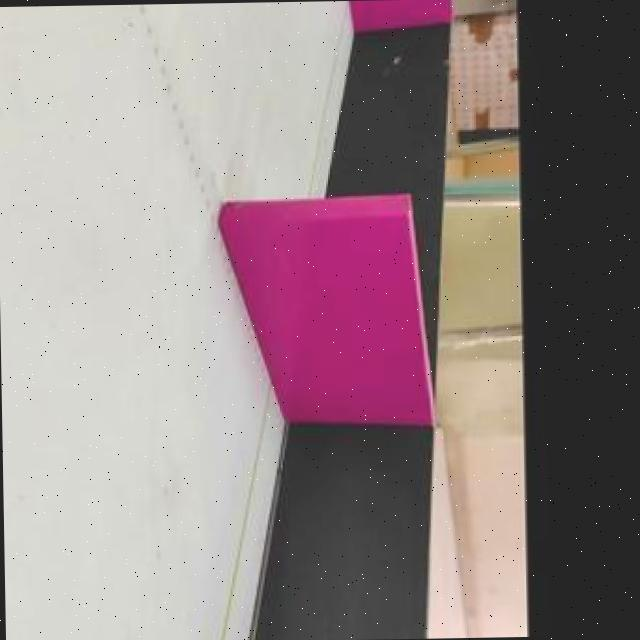xparking: (248, 196, 412, 424), (355, 0, 451, 19)
